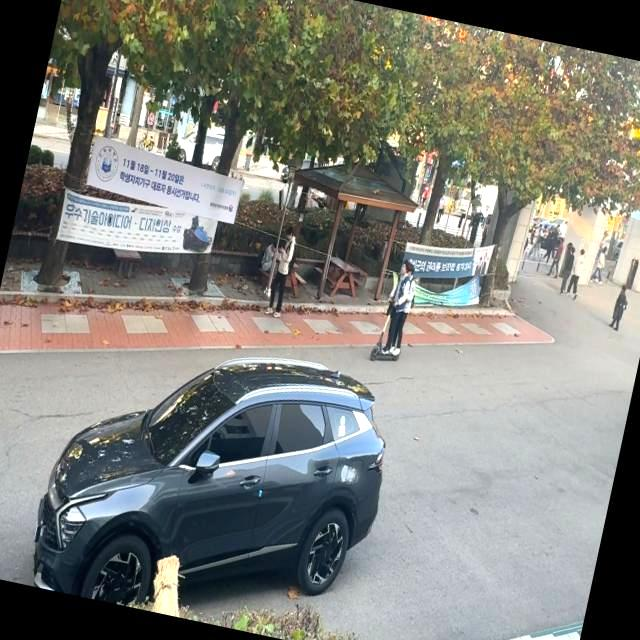bare_head: (406, 261, 422, 284), (395, 262, 414, 276)
human: (394, 262, 415, 356), (386, 259, 405, 356)
kickboard: (365, 336, 408, 366)
